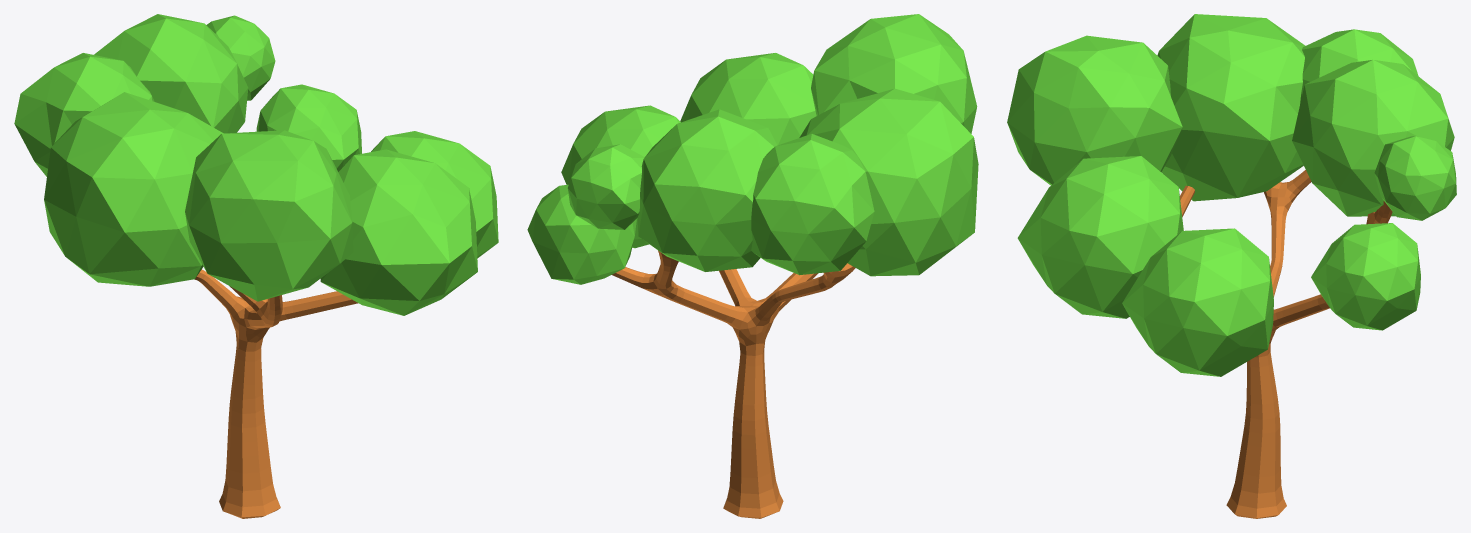
The model's file is tree2 .fbx.
3 renders of one model, left to right at view 1: azimuth 30°, elevation 25°; view 2: azimuth 150°, elevation 25°; view 3: azimuth 270°, elevation 25°, orthographic. The views are drawn at different scales.
Visible parts, largest first — view 1: Tree leaf, Tree trunk; view 2: Tree leaf, Tree trunk; view 3: Tree leaf, Tree trunk.
Boxes of the visible parts, <box> form: Tree leaf: <box>14,14,498,315</box>; Tree trunk: <box>194,269,358,518</box>; Tree leaf: <box>527,14,978,284</box>; Tree trunk: <box>612,250,855,518</box>; Tree leaf: <box>1007,14,1456,376</box>; Tree trunk: <box>1180,170,1392,518</box>.
Size of the model in its own units: 854 by 899 by 835.
